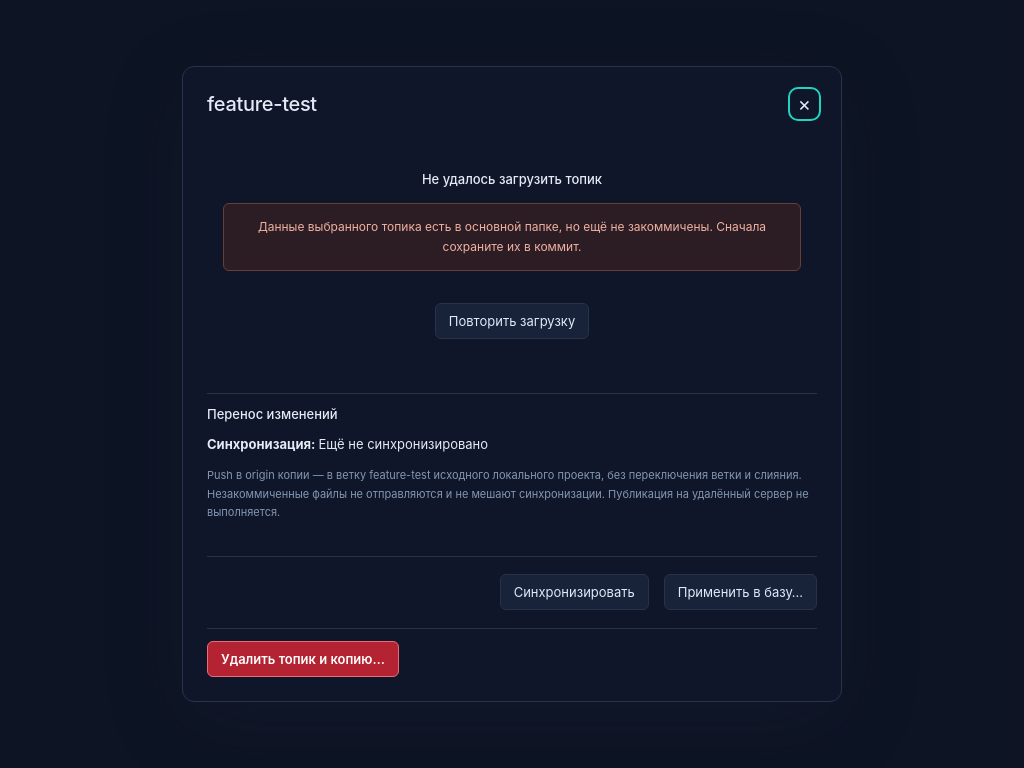
Scenario: keeps safe actions and permits selected deletion, only active blocks: current
Check: the message that starts with "Не удалось загрузить топик" is shown, box [223,171,801,287]
Check: the text "Ещё не синхронизировано" is shown, box [318,436,488,452]
Click the button "Применить в базу…": [740, 592] box [664,574,817,610]
(page scrolled)
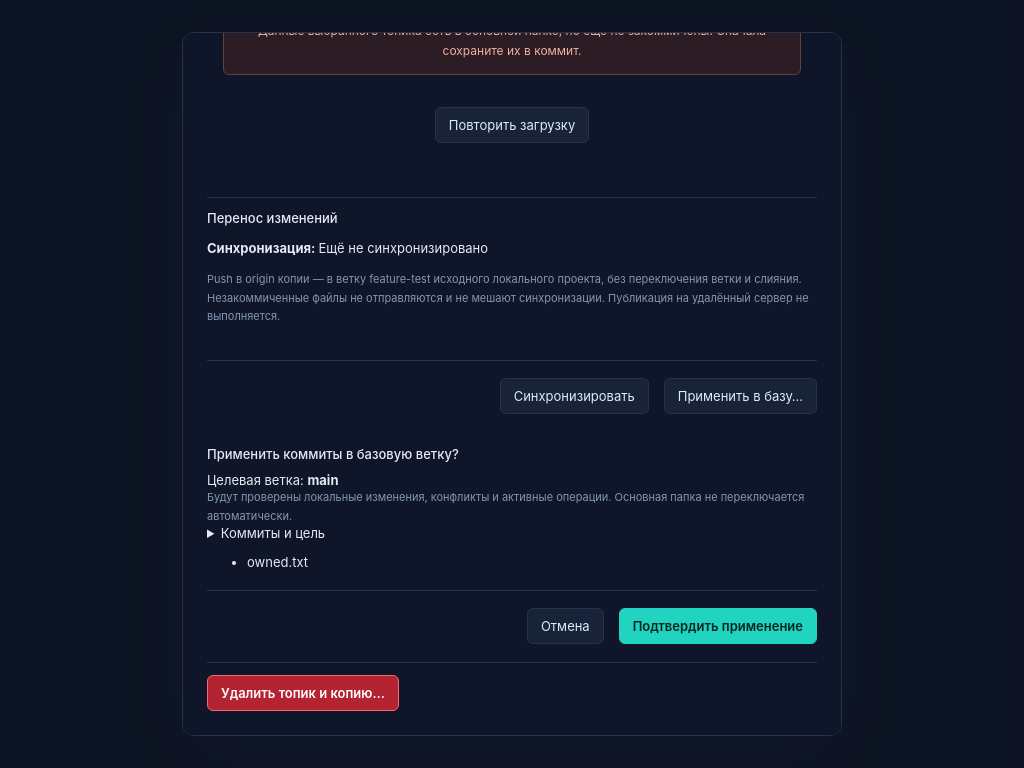
Check: the element named "Подтверждение применения в базу" is shown, box [207,428,817,644]
Click the button "Удалить топик и копию…": [303, 693] box [207,675,399,711]
(page scrolled)
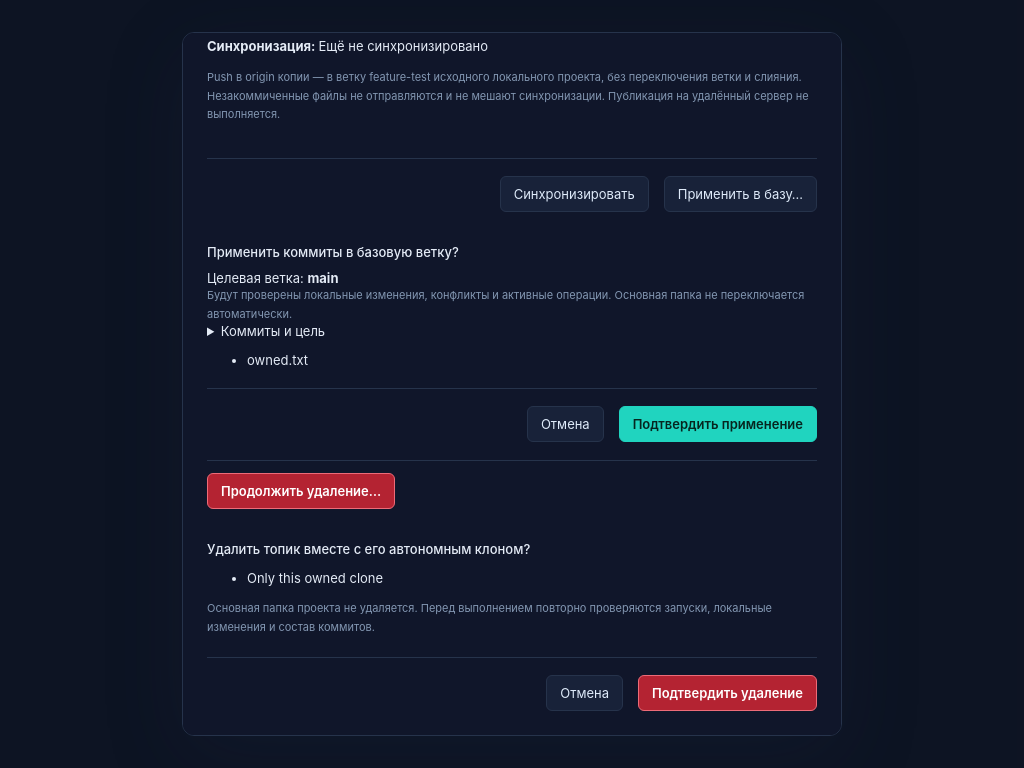
Check: the element named "Подтверждение удаления топика и копии" is shown, box [207,523,817,711]
